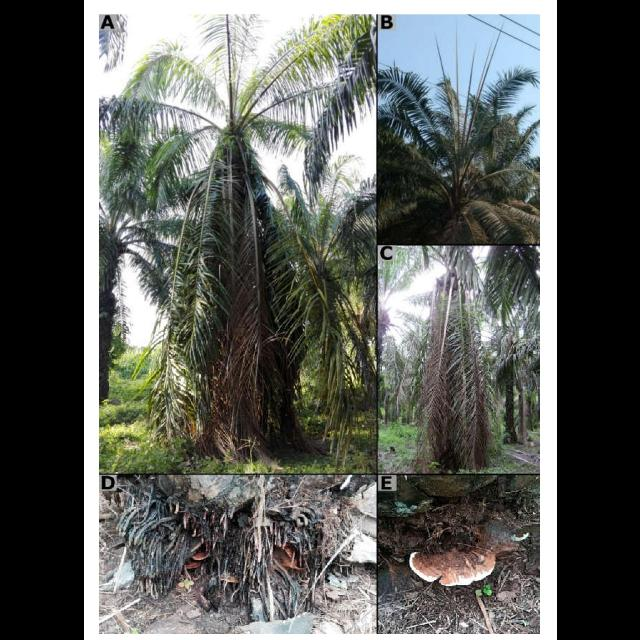ganoderma: (409, 545, 497, 588), (183, 553, 210, 572)
